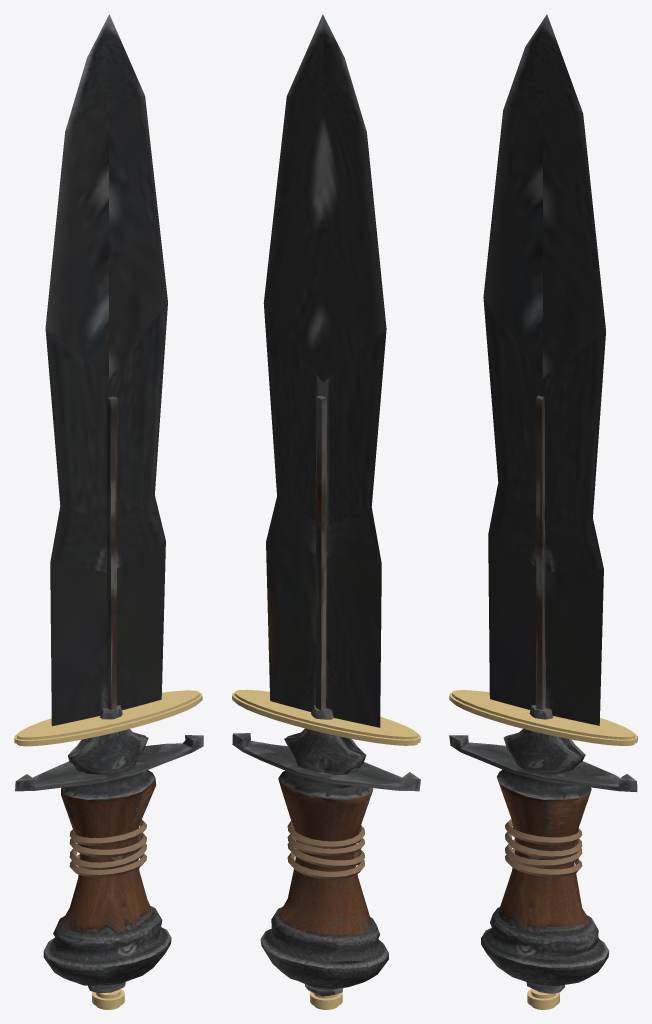
Rendered from weap_roman_pugio_1.glb.
3 views of the same model, side by side, from view 1: azimuth 30°, elevation 25°; view 2: azimuth 150°, elevation 25°; view 3: azimuth 330°, elevation 25° (orthographic).
Visible parts, largest first — view 1: MeshyGear_weap_roman_pugio, Q_GE3_GuardPlate, Q_LE0_RepairThong, Q_GE4_PommelRivet; view 2: MeshyGear_weap_roman_pugio, Q_GE3_GuardPlate, Q_LE0_RepairThong, Q_GE4_PommelRivet; view 3: MeshyGear_weap_roman_pugio, Q_GE3_GuardPlate, Q_LE0_RepairThong, Q_GE4_PommelRivet.
Part boxes in pixels (x1,y1,x2,y2): MeshyGear_weap_roman_pugio: [15, 14, 203, 993]; Q_GE3_GuardPlate: [14, 690, 202, 746]; Q_LE0_RepairThong: [69, 819, 146, 877]; Q_GE4_PommelRivet: [92, 989, 124, 1009]; MeshyGear_weap_roman_pugio: [232, 14, 420, 996]; Q_GE3_GuardPlate: [232, 689, 420, 745]; Q_LE0_RepairThong: [287, 821, 364, 879]; Q_GE4_PommelRivet: [310, 992, 342, 1009]; MeshyGear_weap_roman_pugio: [449, 14, 637, 993]; Q_GE3_GuardPlate: [449, 690, 637, 745]; Q_LE0_RepairThong: [505, 819, 582, 877]; Q_GE4_PommelRivet: [527, 988, 559, 1009].
Bounding box in the file's own units: 0.0663 × 0.3334 × 0.0297.
3 materials, 1 textured.
